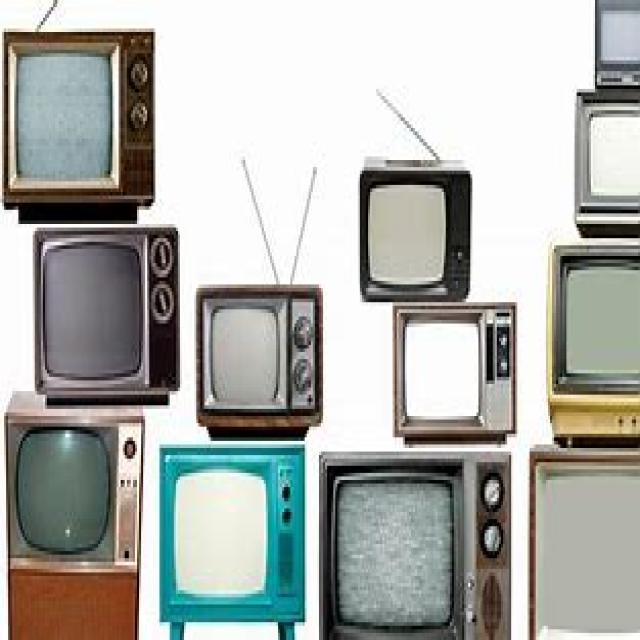tv: (317, 448, 511, 636), (0, 24, 155, 220), (158, 441, 304, 636), (31, 224, 180, 405), (4, 388, 143, 572), (527, 444, 638, 636), (194, 281, 323, 437), (546, 242, 638, 444), (391, 298, 515, 444), (358, 160, 470, 302), (572, 89, 638, 235), (593, 0, 638, 89)
